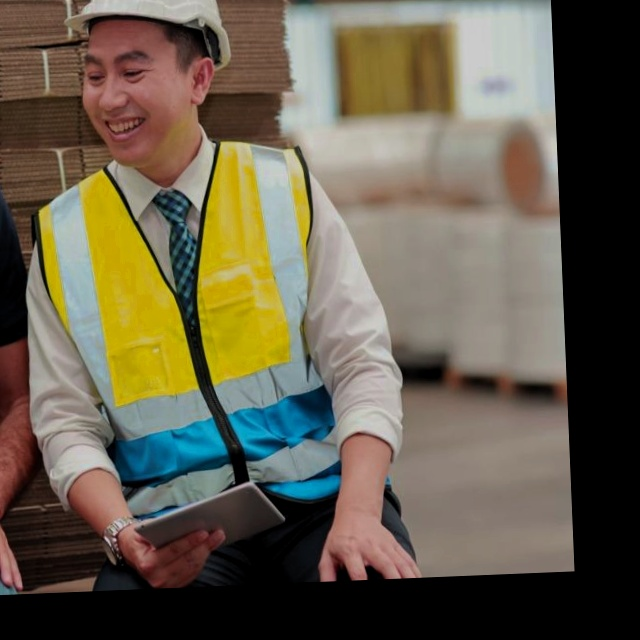Con_Casco: (60, 0, 241, 164)
Con_Chaleco: (28, 139, 333, 532)
